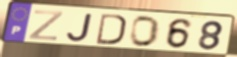6: (165, 18, 193, 50)
8: (197, 20, 224, 52)
D: (95, 12, 127, 46)
J: (65, 13, 95, 44)
O: (129, 15, 162, 49)
Z: (27, 9, 65, 42)
